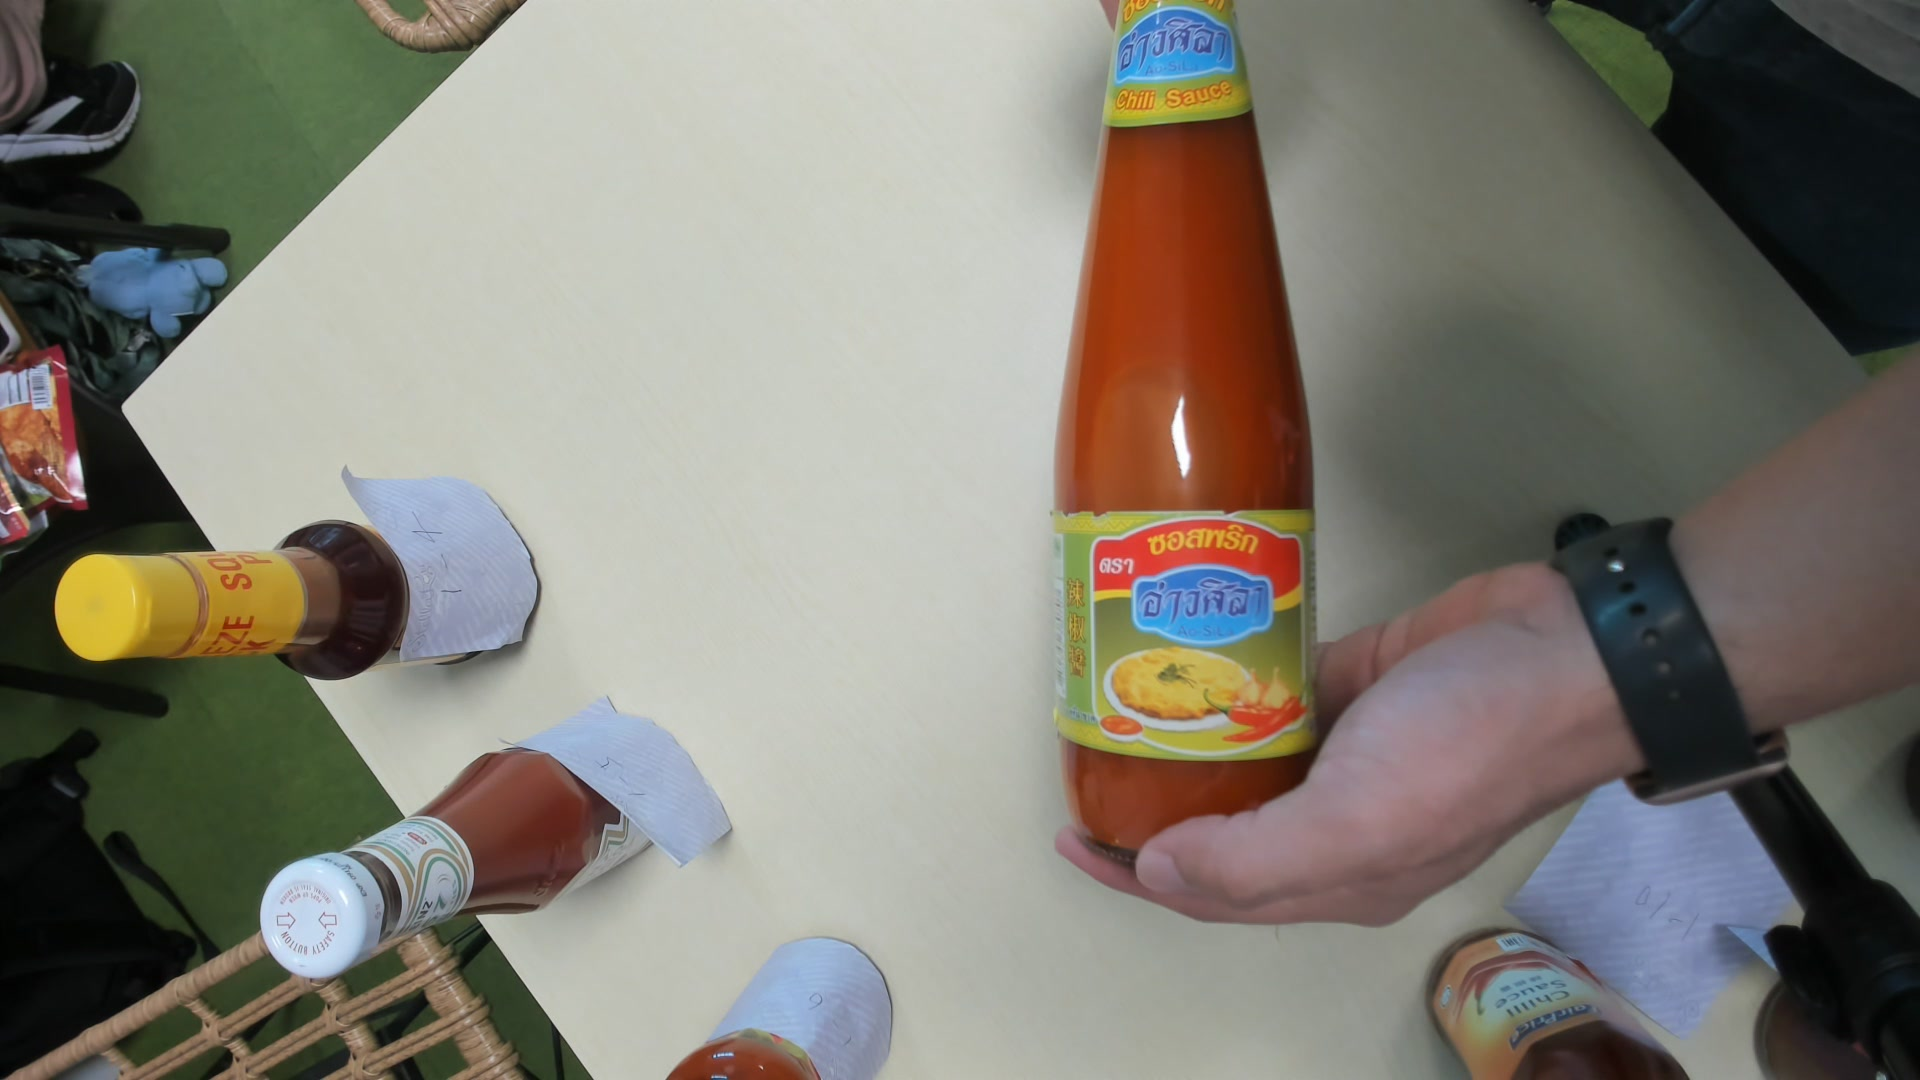KetchupChillSauce_600-699g_Halal_NonHealthy: (1052, 1, 1327, 862)
